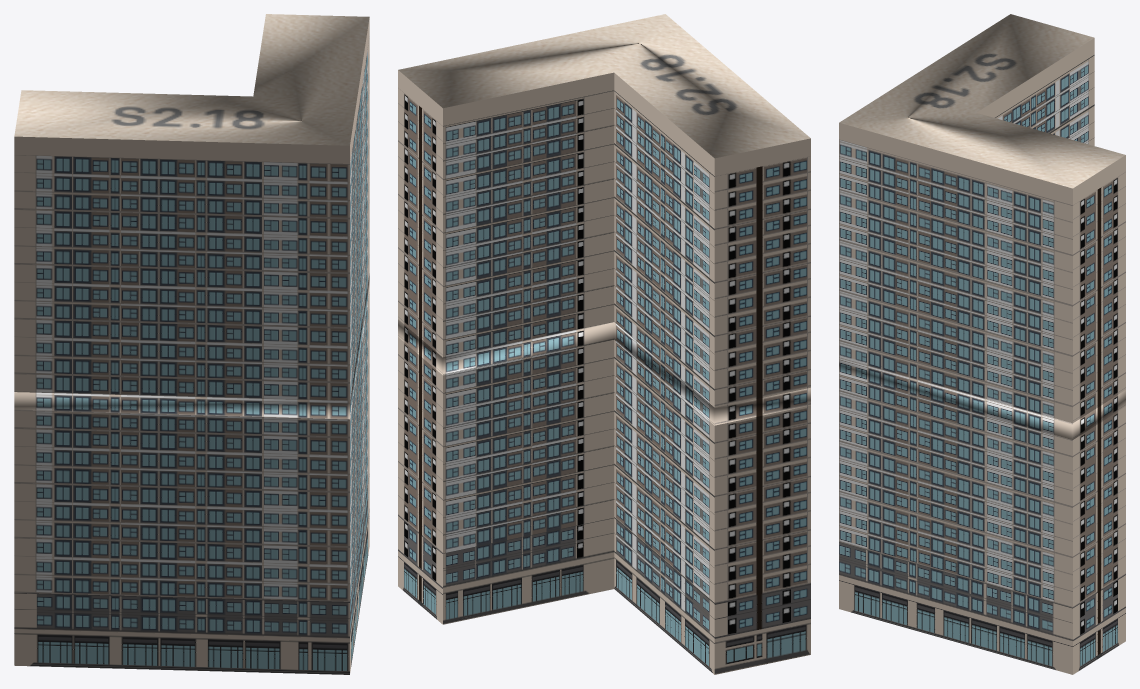
3 views of the same model, side by side, from view 1: azimuth 30°, elevation 25°; view 2: azimuth 150°, elevation 25°; view 3: azimuth 270°, elevation 25° (orthographic). The views are drawn at different scales.
Visible parts, largest first — view 1: Asset3DLoader.sceneRoot; view 2: Asset3DLoader.sceneRoot; view 3: Asset3DLoader.sceneRoot.
Boxes of the visible parts, <box> form: Asset3DLoader.sceneRoot: <box>14,14,369,674</box>; Asset3DLoader.sceneRoot: <box>398,14,810,674</box>; Asset3DLoader.sceneRoot: <box>839,14,1125,674</box>.
Size of the model in its own units: 73.5 by 95.5 by 51.03.
1 material, 1 textured.
